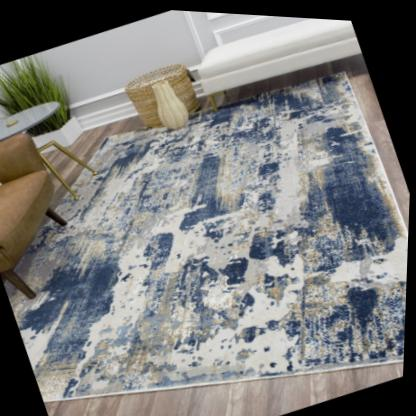Carpet: (7, 64, 410, 399)
